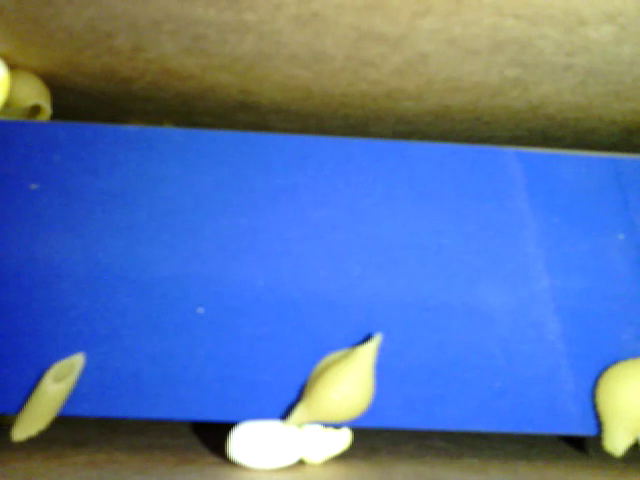penne: (10, 350, 89, 446)
shell: (284, 330, 384, 427), (591, 355, 638, 460), (6, 69, 55, 123)
